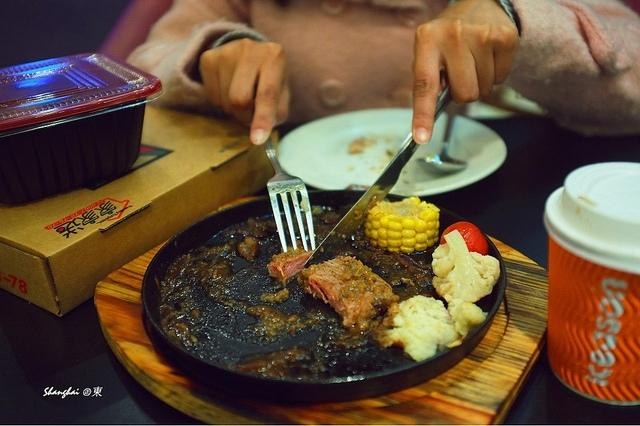cauliflower: (432, 229, 501, 303), (386, 295, 458, 362), (448, 298, 489, 335)
corn: (366, 197, 440, 253)
tomato: (440, 222, 489, 256)
